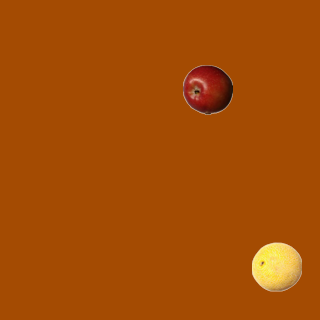Apple Braeburn: (182, 64, 232, 114)
Cantaloupe 1: (251, 241, 301, 291)
